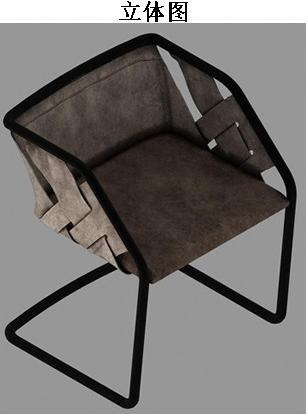obstacle: (4, 34, 295, 407)
